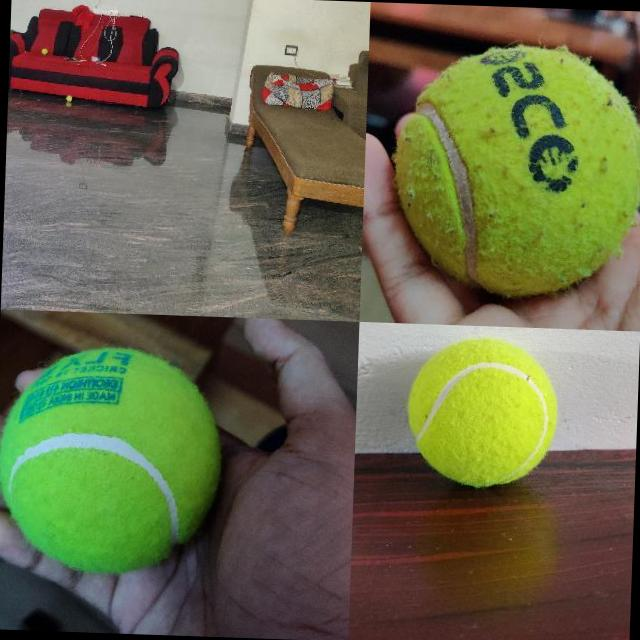Tennis Ball: (391, 39, 640, 300), (0, 344, 223, 574), (404, 334, 560, 489), (41, 47, 47, 53), (66, 95, 72, 101)
